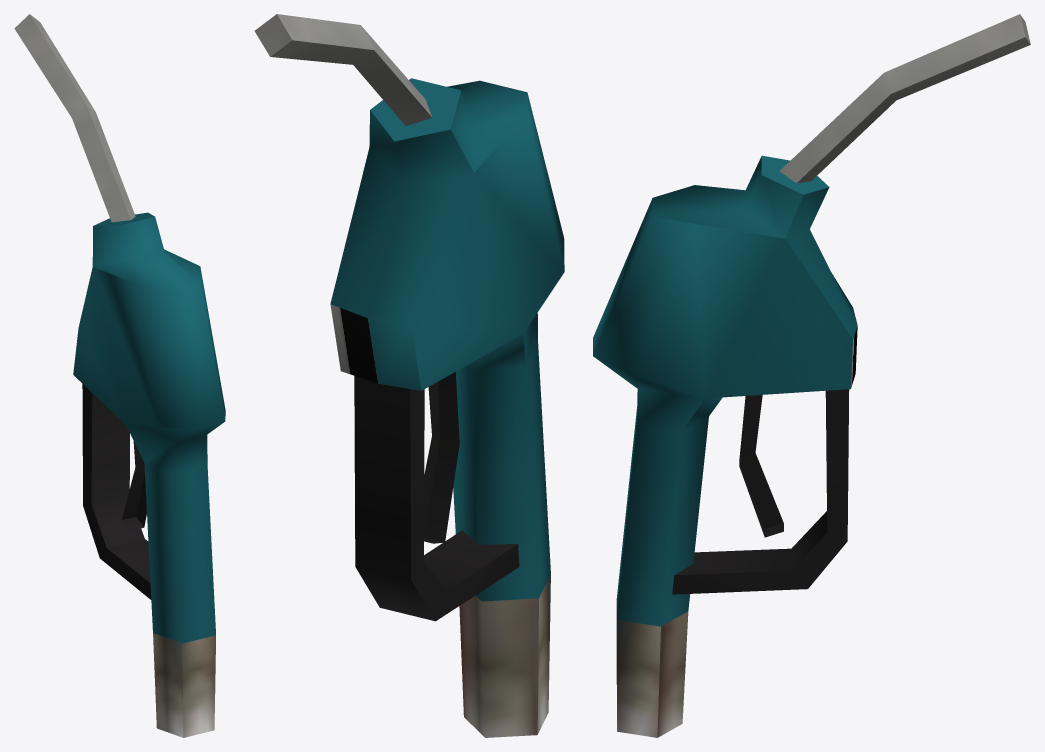
File: gas_dispenser.fbx
3 views of the same model, side by side, from view 1: azimuth 30°, elevation 25°; view 2: azimuth 150°, elevation 25°; view 3: azimuth 270°, elevation 25° (orthographic). The views are drawn at different scales.
Visible parts, largest first — view 1: gas_dispenser; view 2: gas_dispenser; view 3: gas_dispenser.
Boxes of the visible parts, x1,y1,x2,y2 form: gas_dispenser: (14, 14, 225, 737); gas_dispenser: (254, 14, 564, 737); gas_dispenser: (593, 14, 1030, 737).
Bounding box in the file's own units: 0.0738 × 0.5914 × 0.3305.
Materials: 1 (1 with a texture image).
